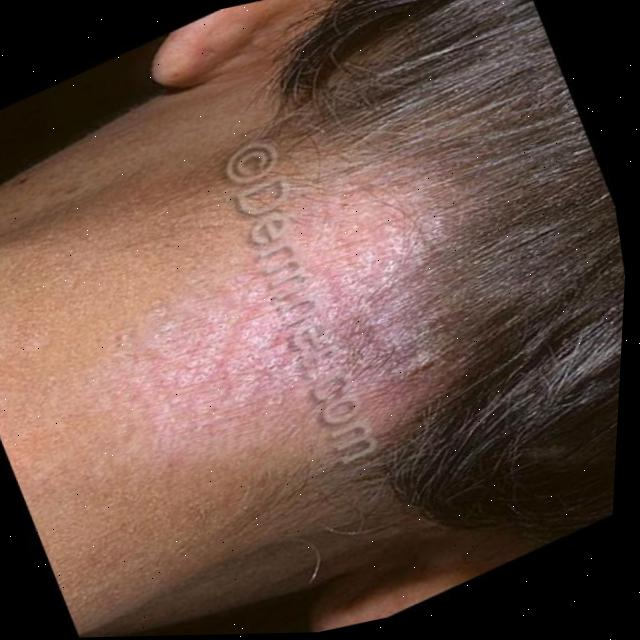Eczema: (126, 180, 448, 474)
